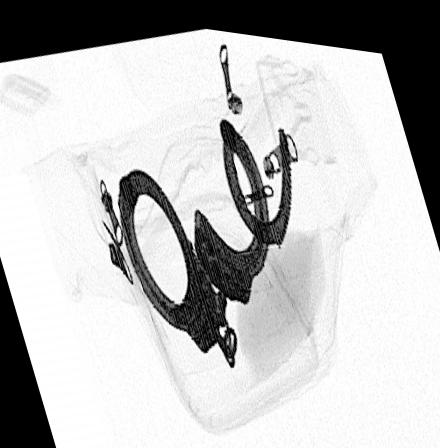HandCuffs: (115, 105, 295, 364)
